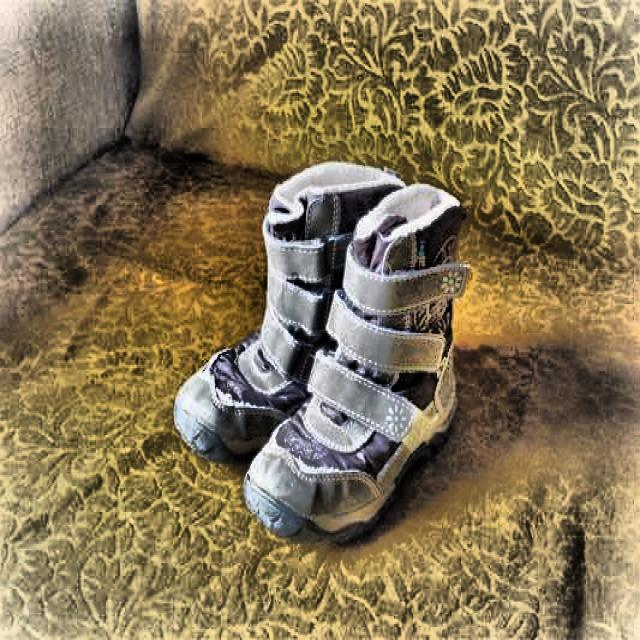shoes: (177, 152, 472, 559)
